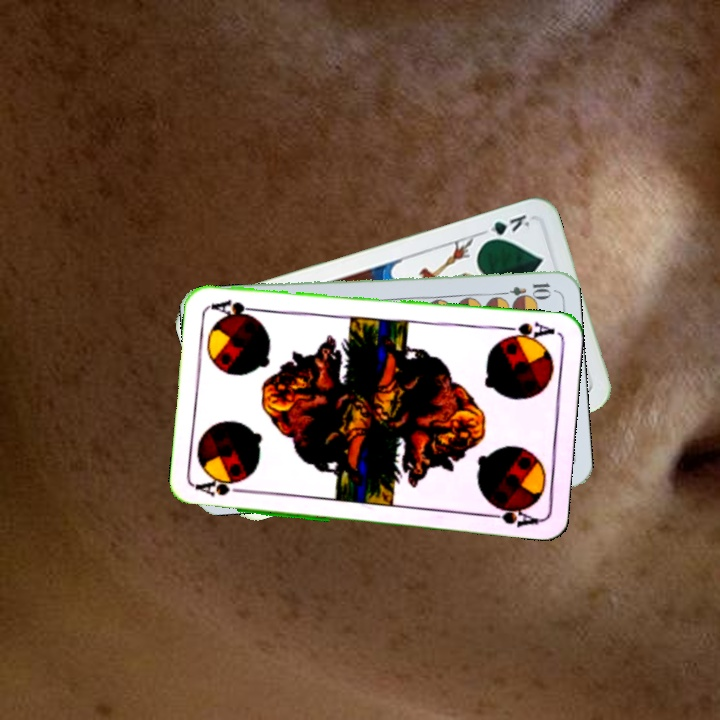E10: (494, 278, 554, 300)
GK: (475, 210, 533, 245)
SA: (497, 317, 557, 345), (193, 476, 253, 499)
